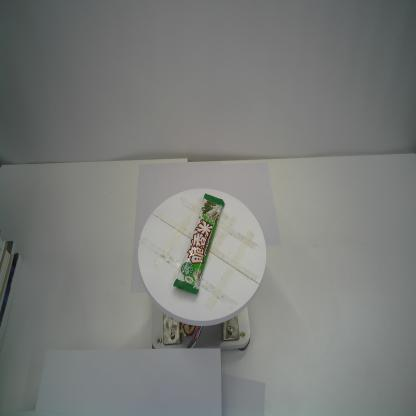Chocolate: (171, 191, 225, 298)
